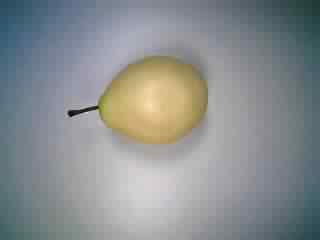pear: (58, 50, 220, 153)
